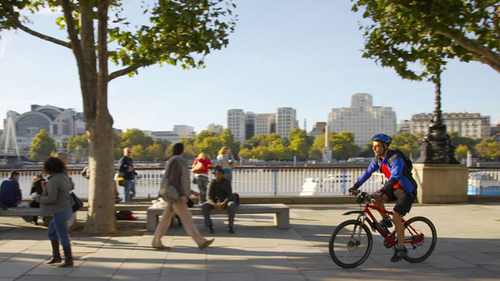bikerider: (320, 131, 442, 269)
